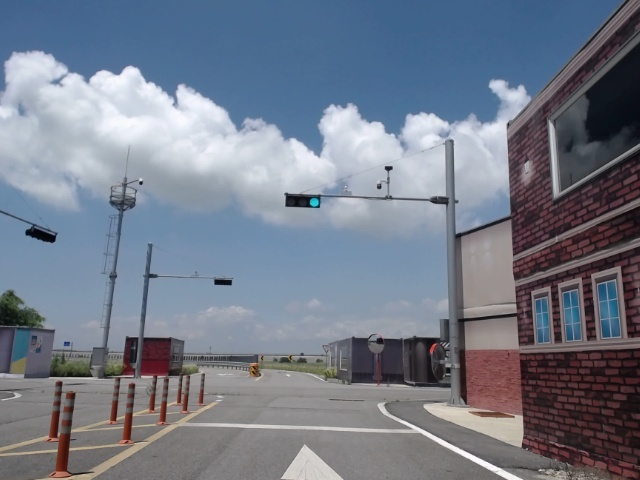green_3: (286, 196, 320, 207)
